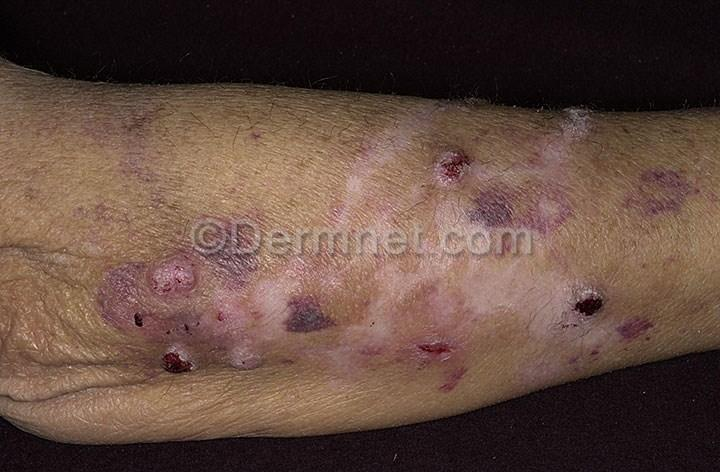Eczema: (146, 256, 414, 428), (212, 98, 421, 225), (418, 103, 577, 222), (413, 262, 541, 392), (74, 96, 204, 213), (41, 236, 149, 371), (544, 254, 678, 362), (618, 132, 710, 230)
